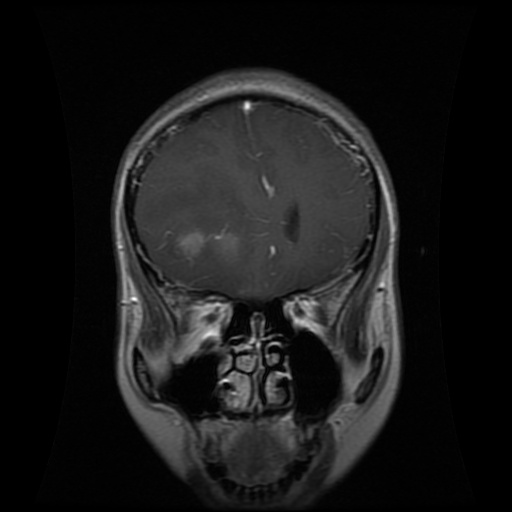glioma: (158, 216, 255, 273)
